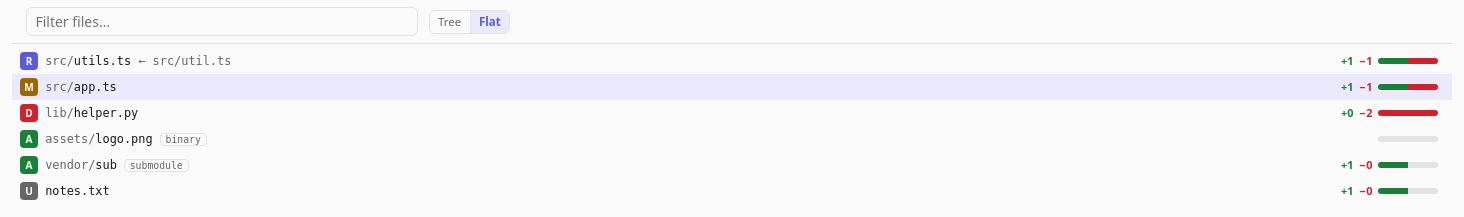
Test: FileList › filters, selects, and shows empty states
Type "util" into the search field at [222, 22], box [26,7,418,36]
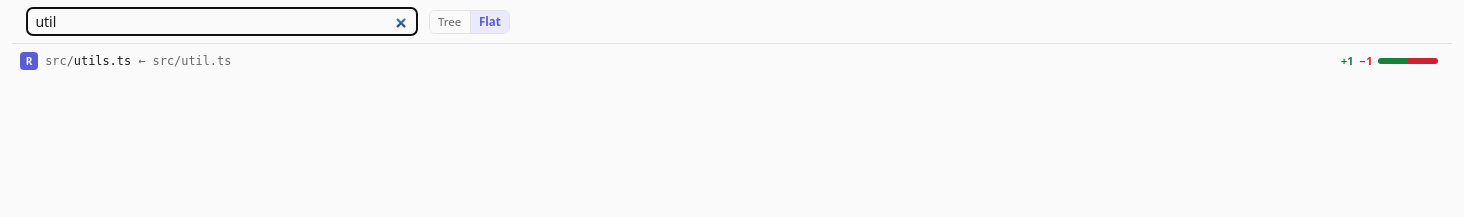
Expected: the number of list items is 1
Click the button "R src/utils.ts ← src/util.ts +1 −1" at [102, 61], box [12,48,1452,74]
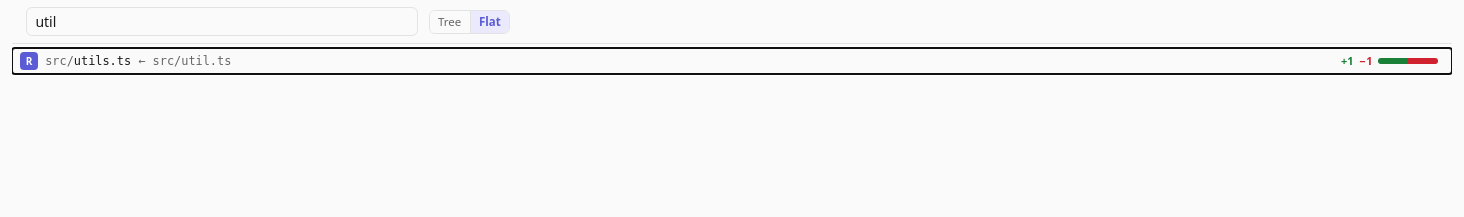
Replace the text in the search field with "zzz" at [222, 22], box [26,7,418,36]
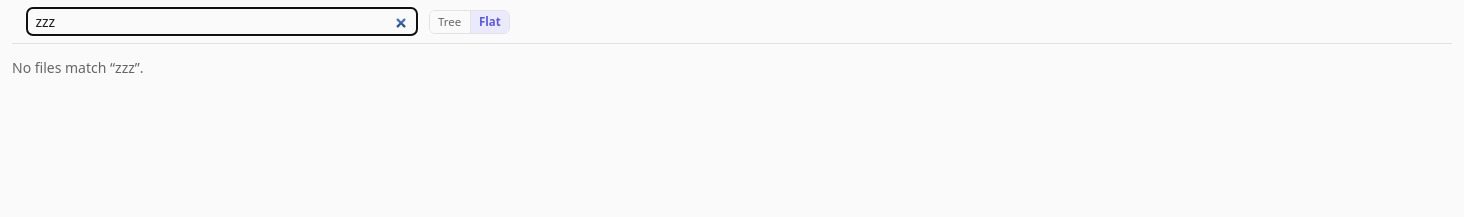
Expected: the text "No files match “zzz”." is shown, [12,58,144,77]
